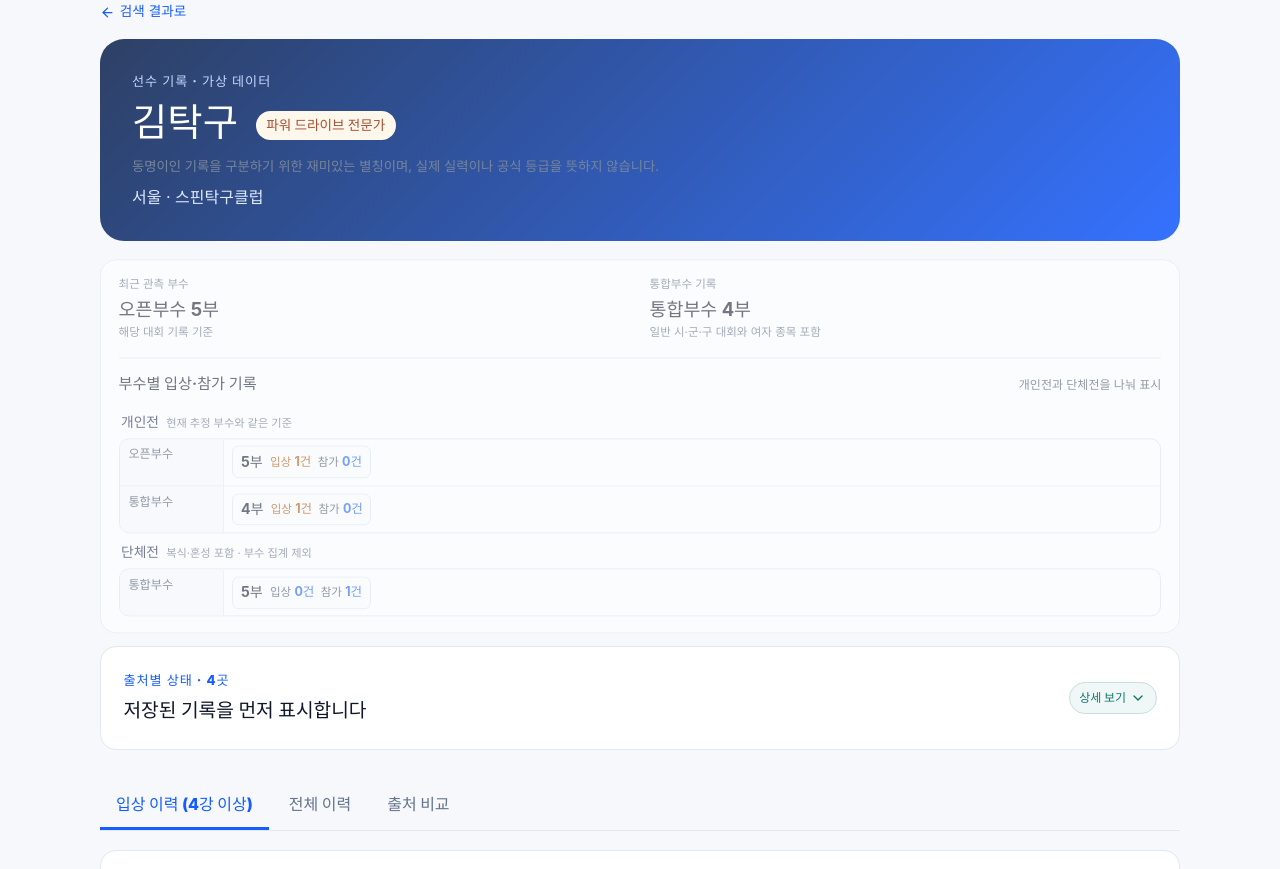
it: PlayerDetailPage metadata › marks records the division summary leaves out
Click the tab "전체 이력".
click(320, 806)  # box [273, 782, 367, 830]
(page scrolled)
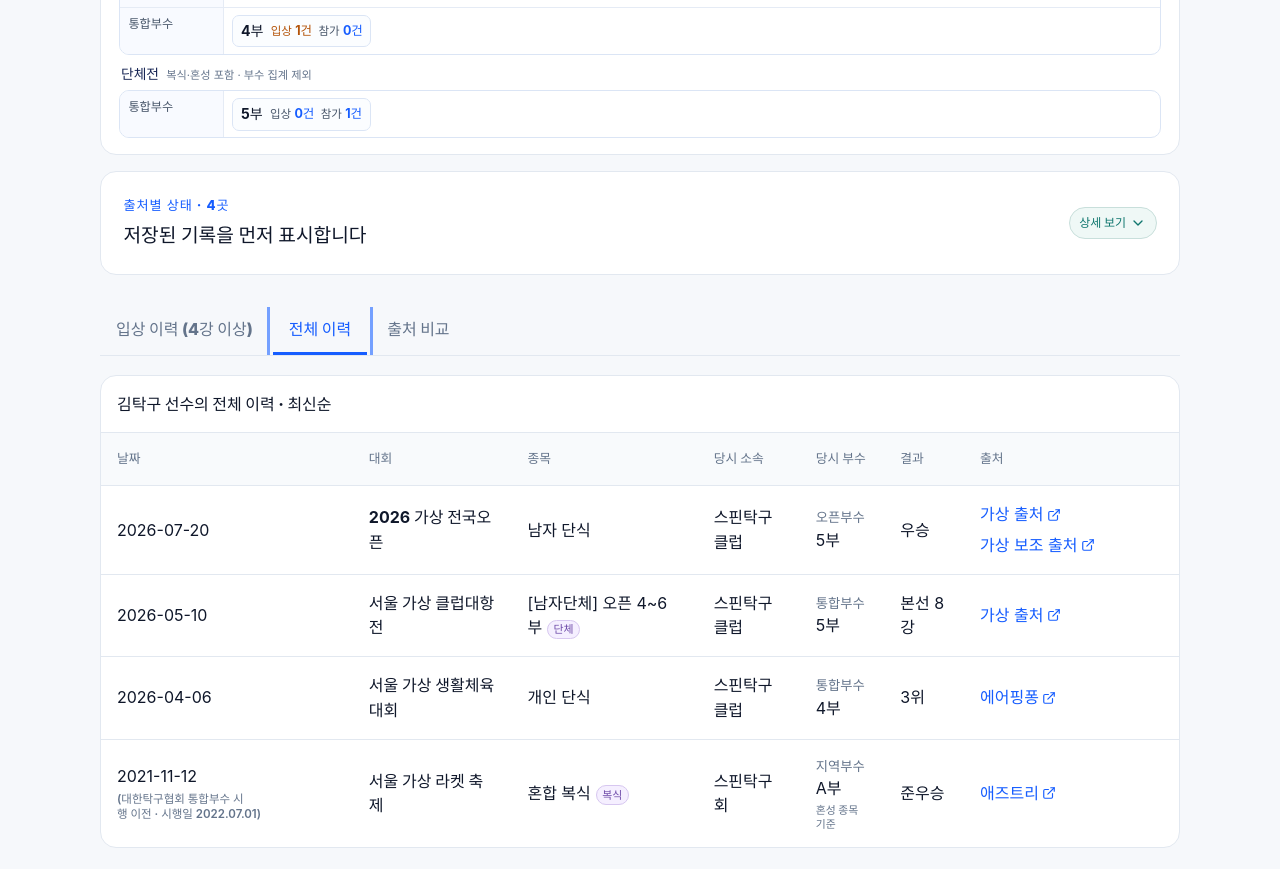
Check: the text "혼합 복식" is shown, box [602, 788, 622, 802]
Check: the text titled "단체·복식·혼성 입상은 현재 추정 부수 집계에서 제외합니다." is shown, box [547, 620, 580, 639]
